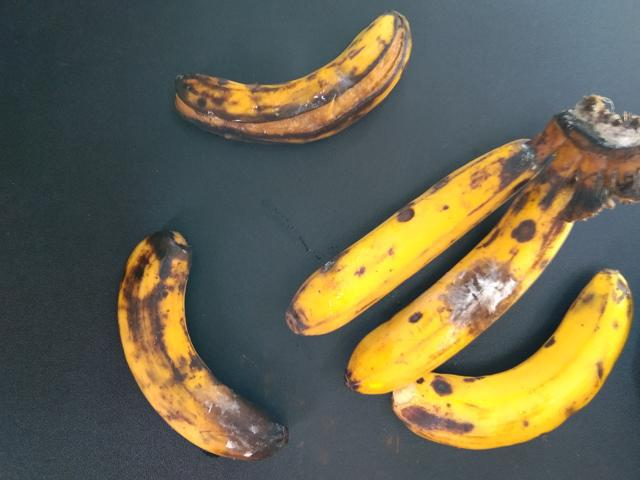ripe: (270, 136, 529, 343), (383, 274, 630, 463)
rotten: (104, 213, 326, 479), (158, 3, 427, 154)
